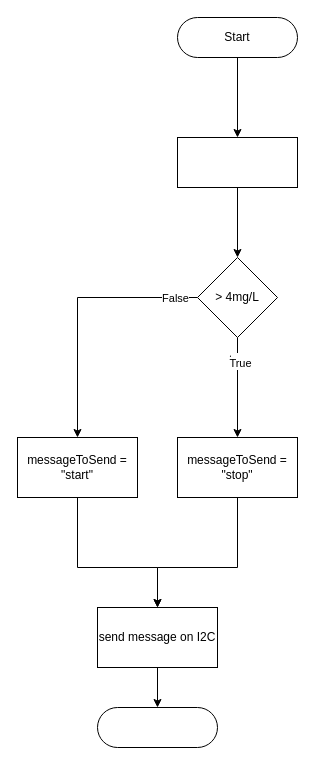
Some shapes in this 315 by 765 pixel diagram are drawn without their labels. Each missing label, with the box of its shape:
End: (96, 706, 218, 748)
Measure dissolved oxygen (DO): (176, 136, 298, 188)
